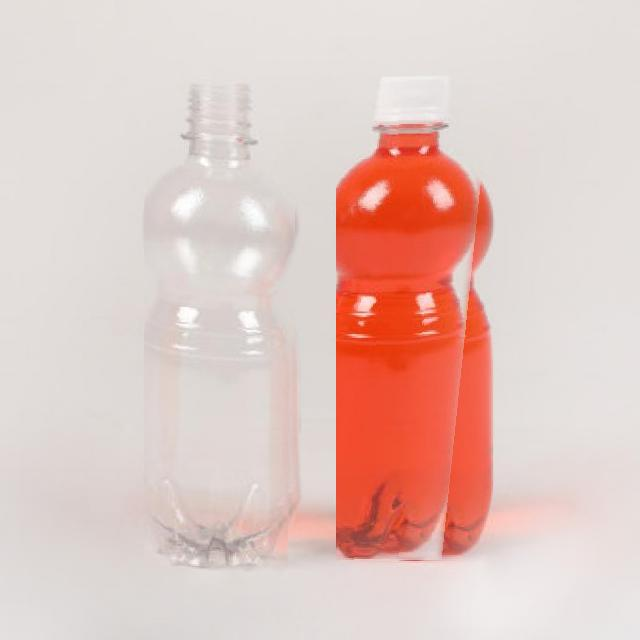plastic bottle: (336, 77, 492, 563), (144, 83, 298, 566)
